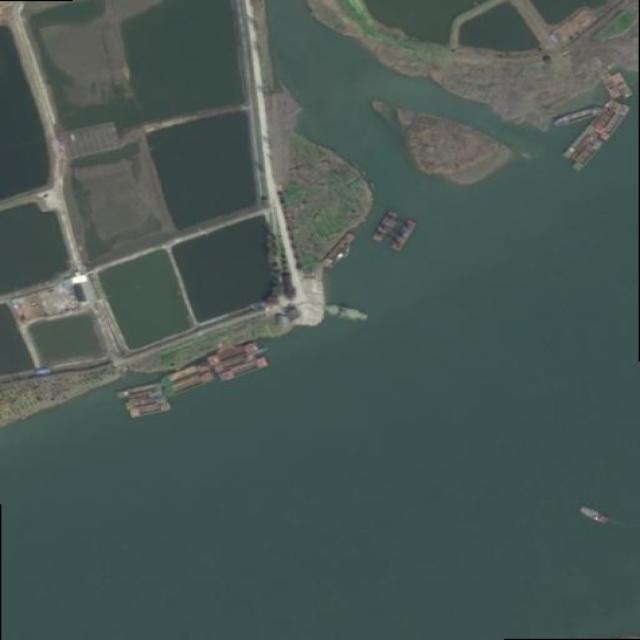ship: (319, 229, 360, 274), (561, 122, 602, 164), (600, 101, 640, 140), (570, 137, 608, 177), (367, 207, 403, 247), (387, 218, 424, 254), (219, 358, 270, 383), (592, 95, 623, 135), (215, 350, 266, 373), (168, 372, 218, 395), (163, 362, 210, 386), (210, 343, 259, 366), (555, 106, 602, 129), (609, 67, 637, 101), (327, 303, 370, 325), (117, 383, 164, 399), (126, 393, 167, 410), (579, 504, 610, 524), (132, 404, 172, 418), (604, 77, 620, 97)
